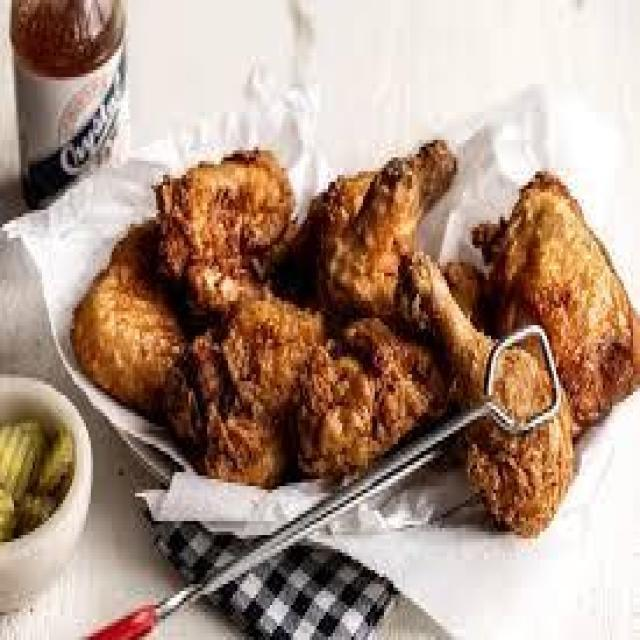Chicken -Fried Chicken-: (100, 156, 607, 441)
